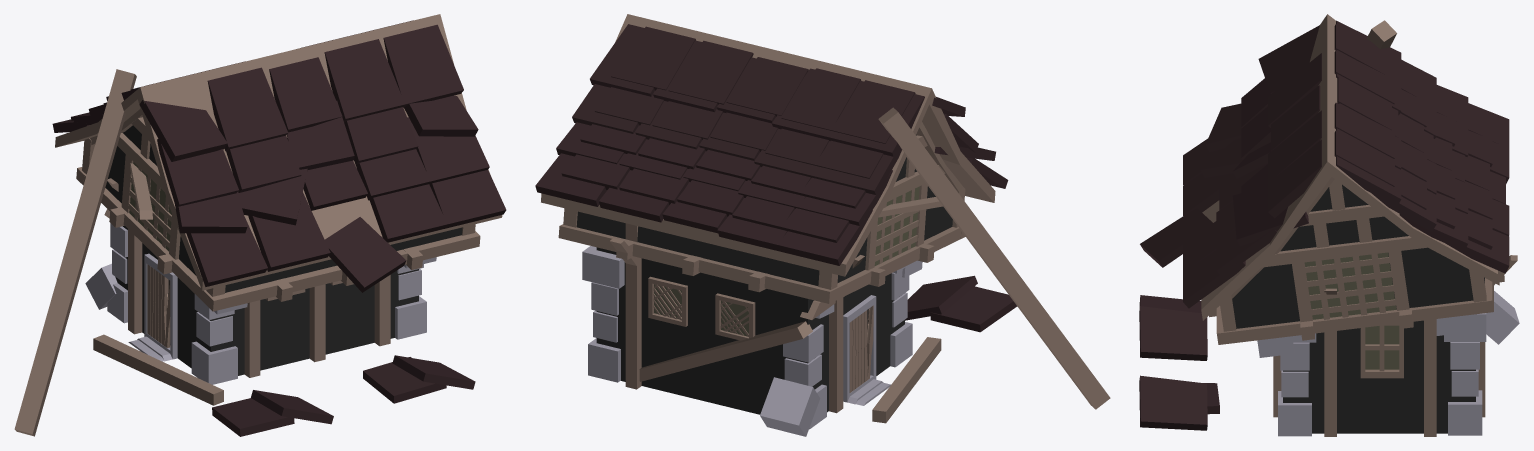
File: House_broken.fbx
3 renders of one model, left to right at view 1: azimuth 30°, elevation 25°; view 2: azimuth 150°, elevation 25°; view 3: azimuth 270°, elevation 25°, orthographic.
Visible parts, largest first — view 1: TOITGAUCHE, Base, pCube121, pCube122, pCube37, bastoit, pCube57, TOITGAUCHE3, TOITGAUCHE6, encadrement, porte1, pCube35 (+18 smaller); view 2: TOITGAUCHE1, TOITGAUCHE2, Base, pCube120, pCube122, bastoit, pCube38, pCube54, pCube53, pCube16, pCube121, TOITGAUCHE3 (+20 smaller); view 3: TOITGAUCHE, TOITGAUCHE1, TOITGAUCHE2, Base, bastoit, pCube121, pCube120, TOITGAUCHE5, TOITGAUCHE4, pCube36, pCube143, pCube93 (+33 smaller).
Part boxes in pixels (x1,y1,x2,y2): TOITGAUCHE: [139, 24, 506, 292]; Base: [115, 226, 418, 375]; pCube121: [137, 14, 502, 290]; pCube122: [14, 69, 136, 436]; pCube37: [206, 232, 480, 311]; bastoit: [105, 125, 462, 292]; pCube57: [93, 334, 223, 405]; TOITGAUCHE3: [212, 398, 294, 436]; TOITGAUCHE6: [363, 357, 446, 403]; encadrement: [128, 253, 177, 361]; porte1: [147, 264, 170, 347]; pCube35: [83, 174, 210, 304]; TOITGAUCHE1: [561, 26, 915, 242]; TOITGAUCHE2: [535, 24, 924, 265]; Base: [596, 247, 904, 414]; pCube120: [541, 14, 932, 276]; pCube122: [878, 107, 1110, 409]; bastoit: [576, 134, 952, 285]; pCube38: [558, 224, 836, 303]; pCube54: [639, 321, 812, 381]; pCube53: [610, 223, 641, 389]; pCube16: [760, 377, 820, 436]; pCube121: [922, 89, 995, 202]; TOITGAUCHE3: [930, 286, 1017, 332]; TOITGAUCHE: [1140, 25, 1321, 308]; TOITGAUCHE1: [1334, 24, 1492, 249]; TOITGAUCHE2: [1336, 20, 1509, 273]; Base: [1283, 320, 1475, 433]; bastoit: [1232, 184, 1484, 328]; pCube121: [1201, 14, 1334, 320]; pCube120: [1326, 14, 1499, 285]; TOITGAUCHE5: [1139, 375, 1207, 430]; TOITGAUCHE4: [1139, 306, 1207, 360]; pCube36: [1225, 300, 1486, 343]; pCube143: [1304, 252, 1396, 319]; pCube93: [1261, 236, 1427, 267].
Bounding box in the file's own units: 582 × 368 × 422.
